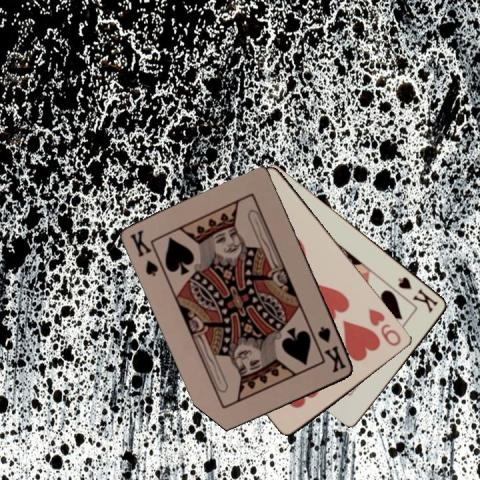9h: (366, 305, 404, 348)
Ks: (395, 274, 440, 314), (315, 323, 348, 374), (127, 227, 160, 278)
